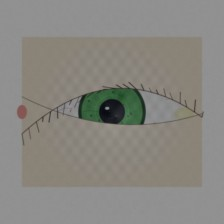pinguecula_lesion: (164, 98, 204, 130)
